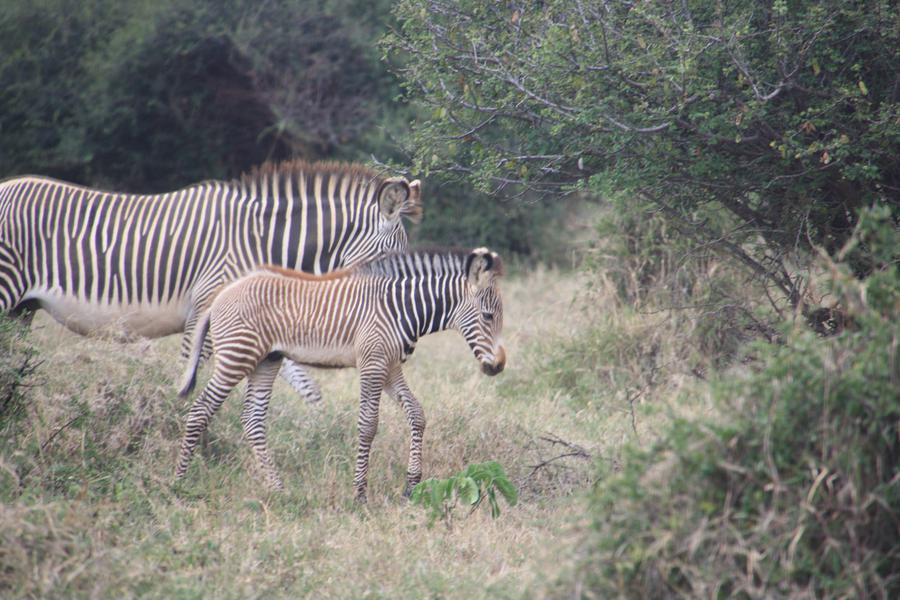zebra_grevys: (0, 161, 187, 319)
